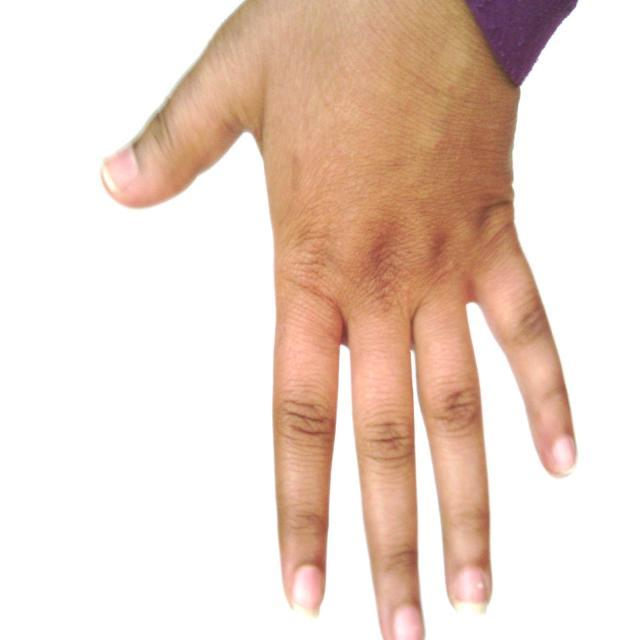Fingernail: (455, 568, 487, 618), (293, 566, 322, 620), (104, 148, 138, 190), (552, 438, 575, 475)
